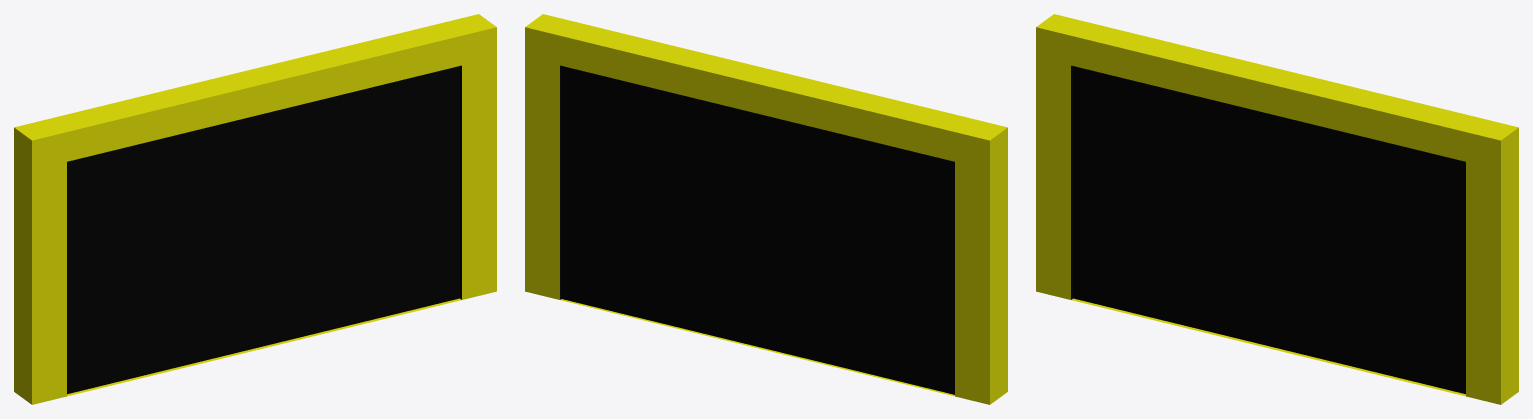
File: EndGame_InvestMachine_V2_Multiply.fbx
3 views of the same model, side by side, from view 1: azimuth 30°, elevation 25°; view 2: azimuth 150°, elevation 25°; view 3: azimuth 330°, elevation 25° (orthographic).
Visible parts, largest first — view 1: Multiplyer; view 2: Multiplyer; view 3: Multiplyer.
Part boxes in pixels (x1,y1,x2,y2): Multiplyer: [14, 14, 496, 404]; Multiplyer: [525, 14, 1007, 404]; Multiplyer: [1036, 14, 1518, 404].
Bounding box in the file's own units: 1177 × 640 × 79.08.
